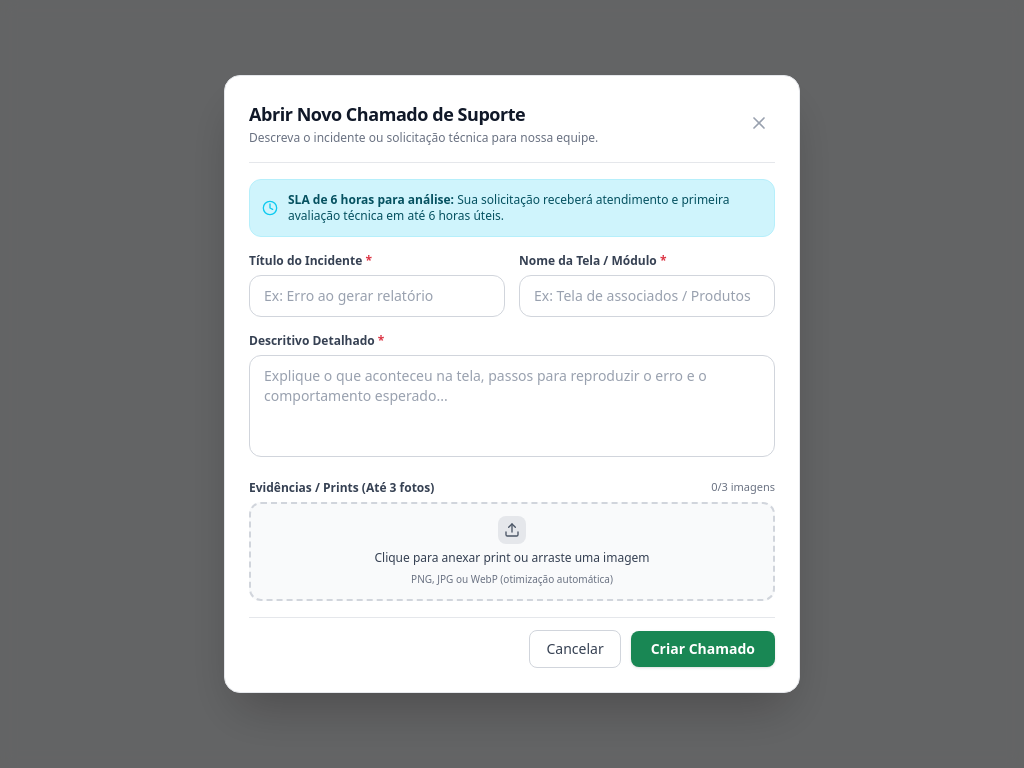
components/suporte/CreateTicketModal › should display server error message when creation fails
Type "Falha" into the field with placeholder "Ex: Erro ao gerar relatório".
click(377, 296); type("Falha")  # box top-left (249, 275), bottom-right (505, 317)
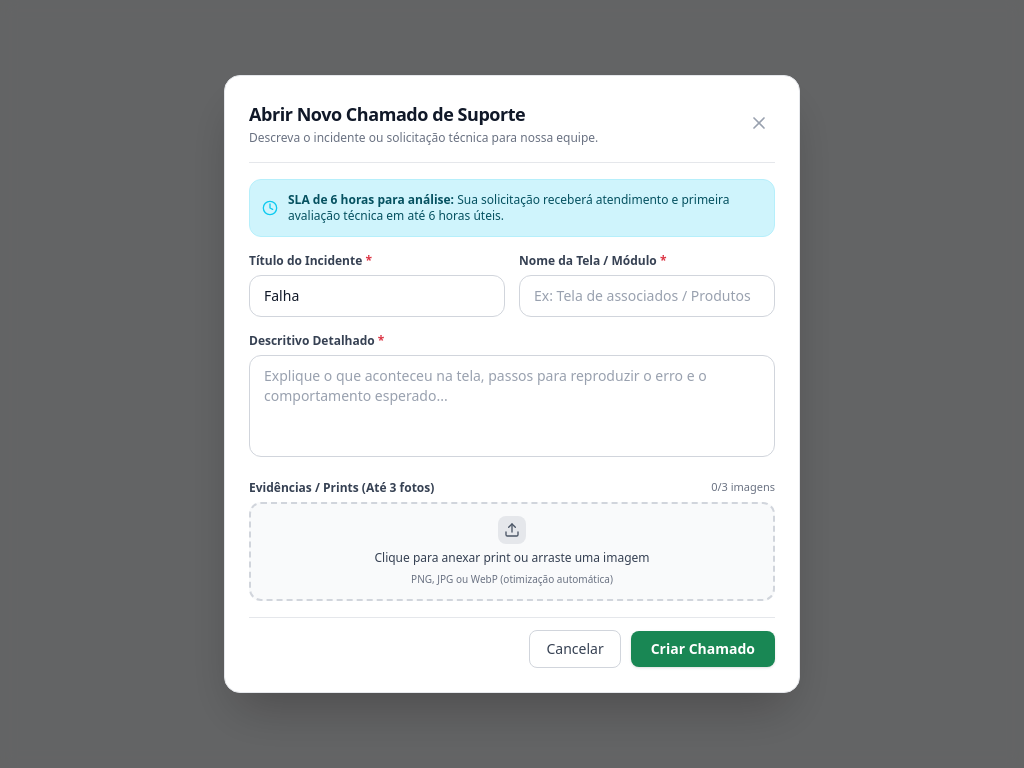
Type "Tela" into the field with placeholder "Ex: Tela de associados / Produtos".
click(647, 296); type("Tela")  # box top-left (519, 275), bottom-right (775, 317)
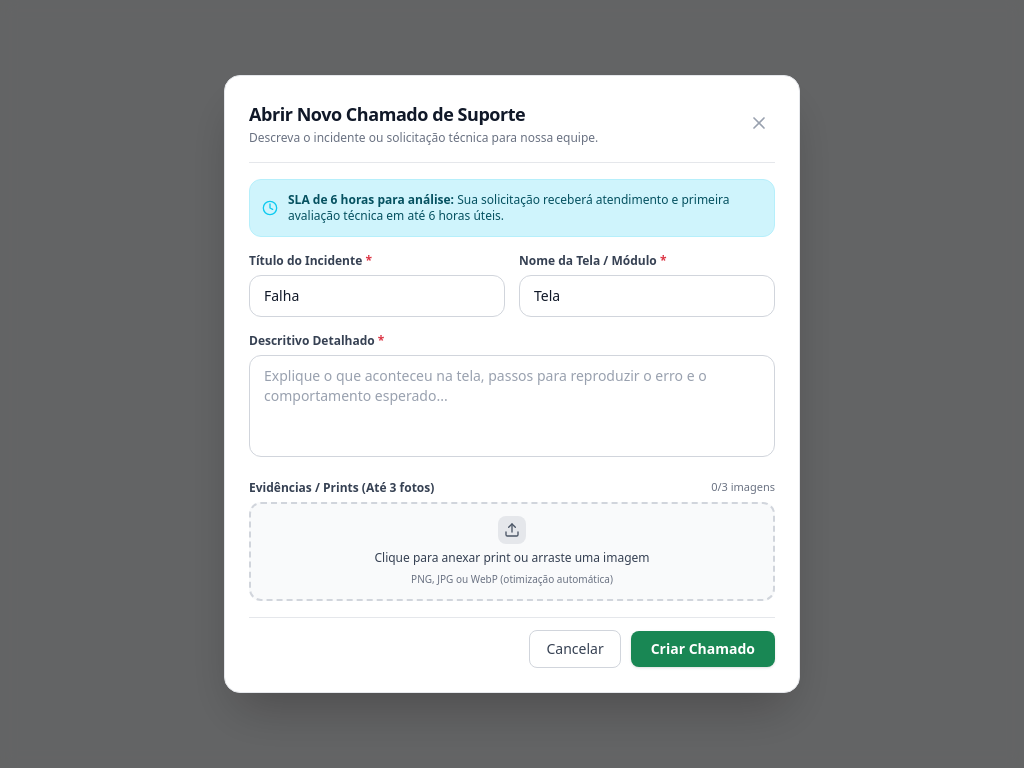
Replace the text in the text box with placeholder "Explique o que aconteceu" with "Descrição" at (512, 406), box top-left (249, 355), bottom-right (775, 457)
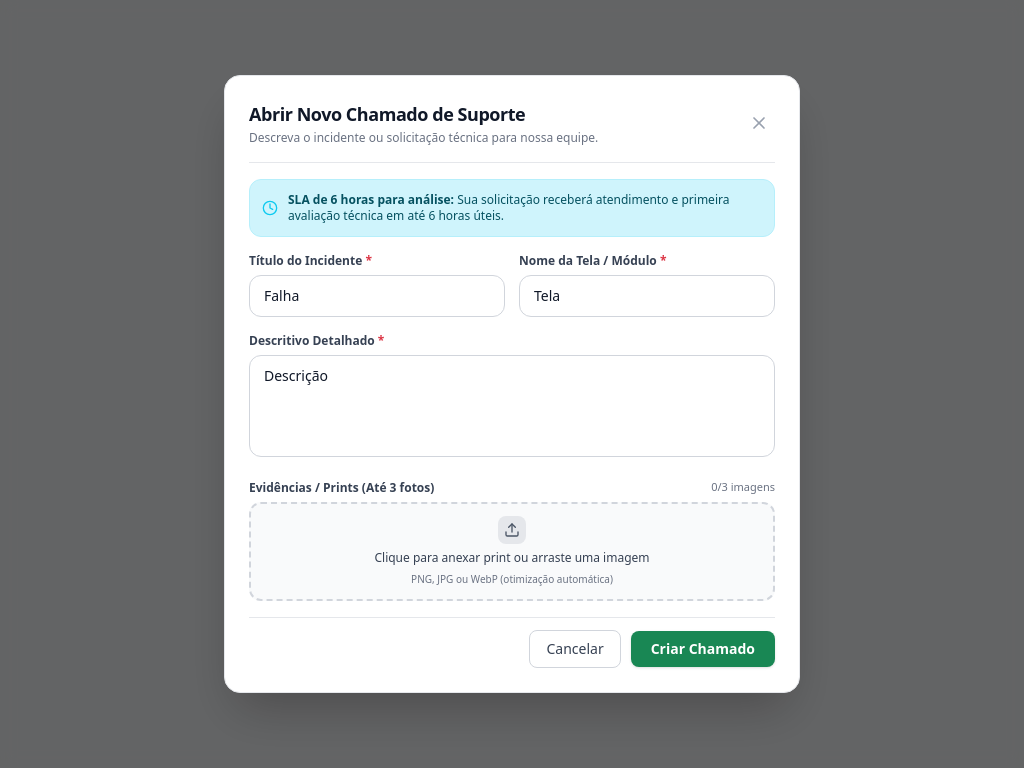
Click the button "Criar Chamado".
click(703, 649)  # box top-left (631, 631), bottom-right (775, 667)
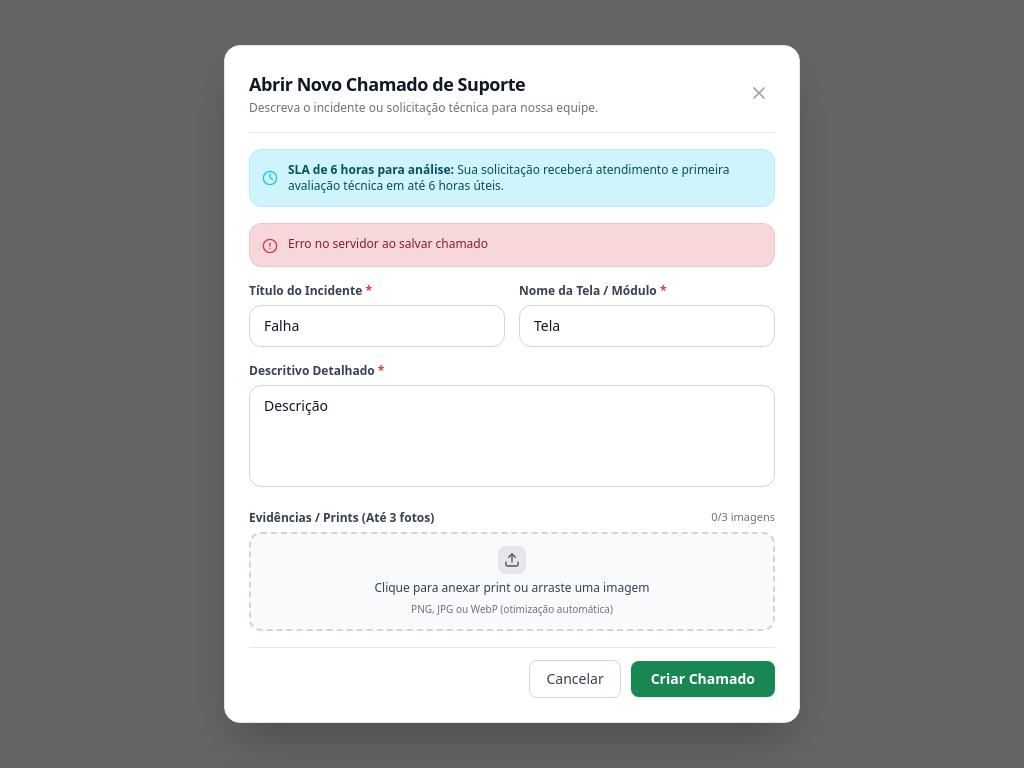
Expected: the text "Erro no servidor ao salvar chamado" is shown, top-left (288, 236), bottom-right (488, 252)
